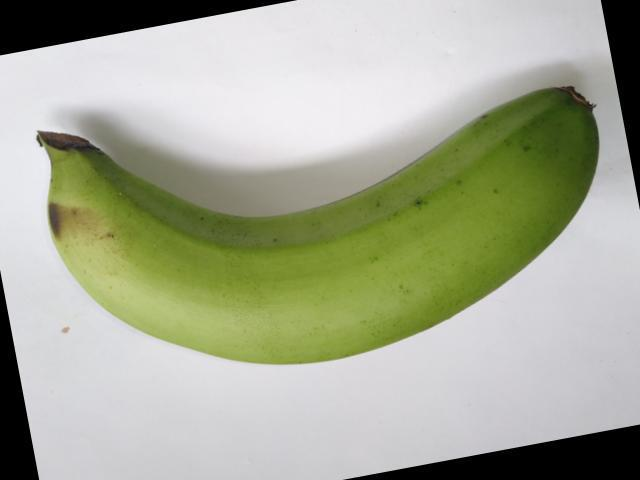freshunripe: (28, 71, 609, 371)
